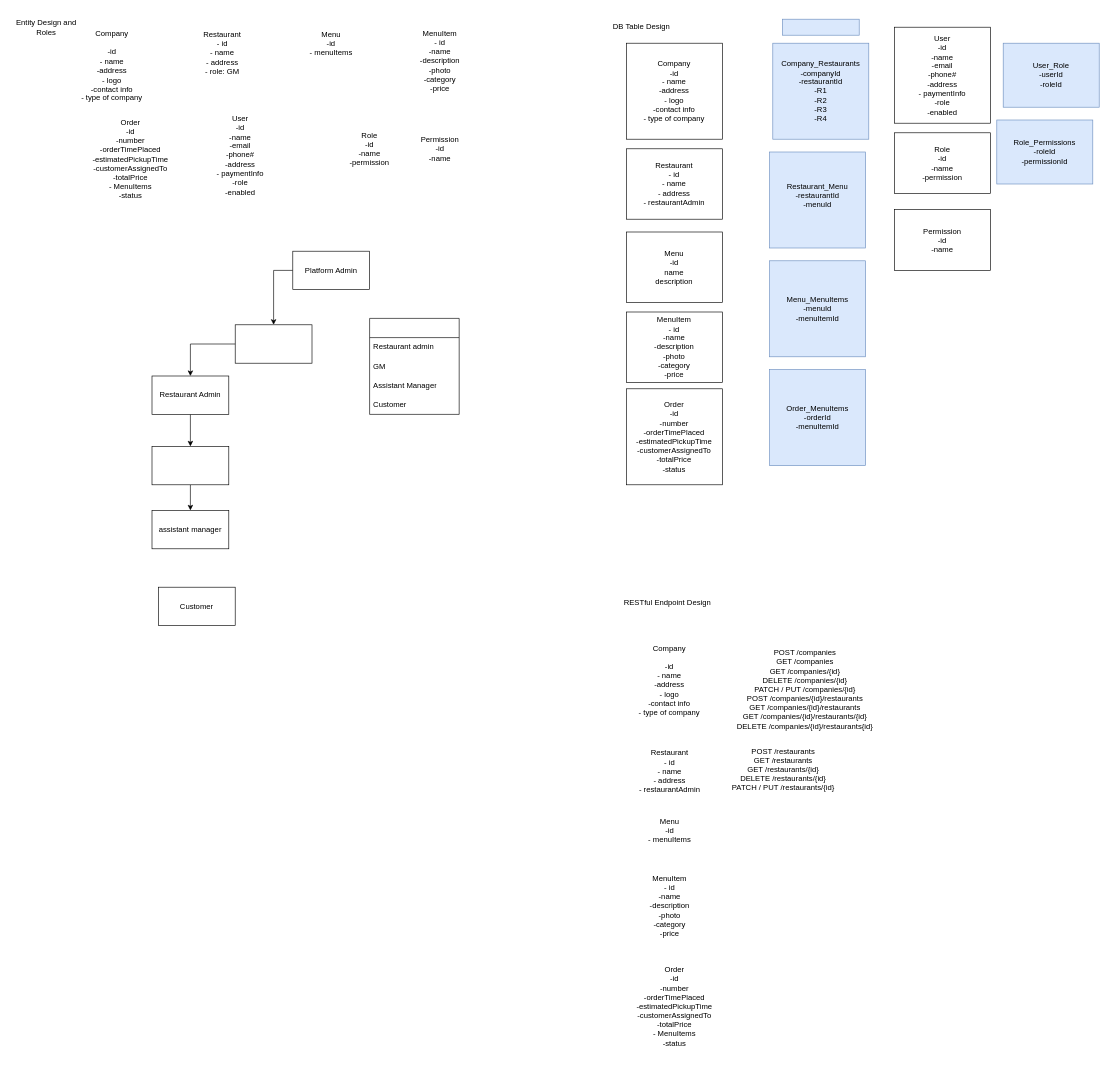
This 1110x1078 diagram has some shape labels left out. Each missing label, with the box of its shape:
Company Admin: (235, 324, 312, 363)
General manager: (151, 446, 229, 485)
Join table: (782, 19, 859, 35)
Role Table: (369, 318, 459, 414)
